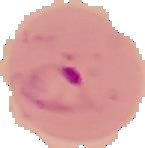parasitized: (12, 56, 97, 114)
